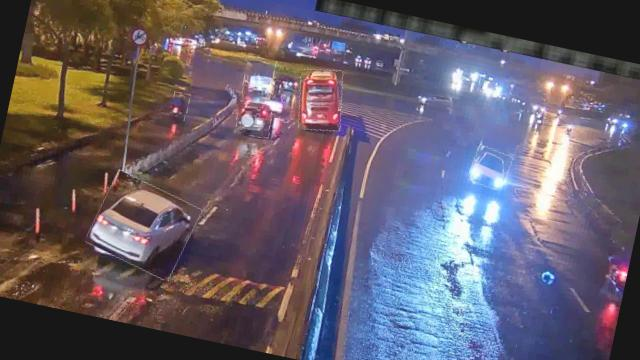Bike: (168, 91, 190, 121)
Bus: (292, 65, 349, 136)
Car: (86, 172, 202, 280), (468, 145, 512, 191), (234, 99, 274, 139)
Truck: (241, 55, 277, 99)
